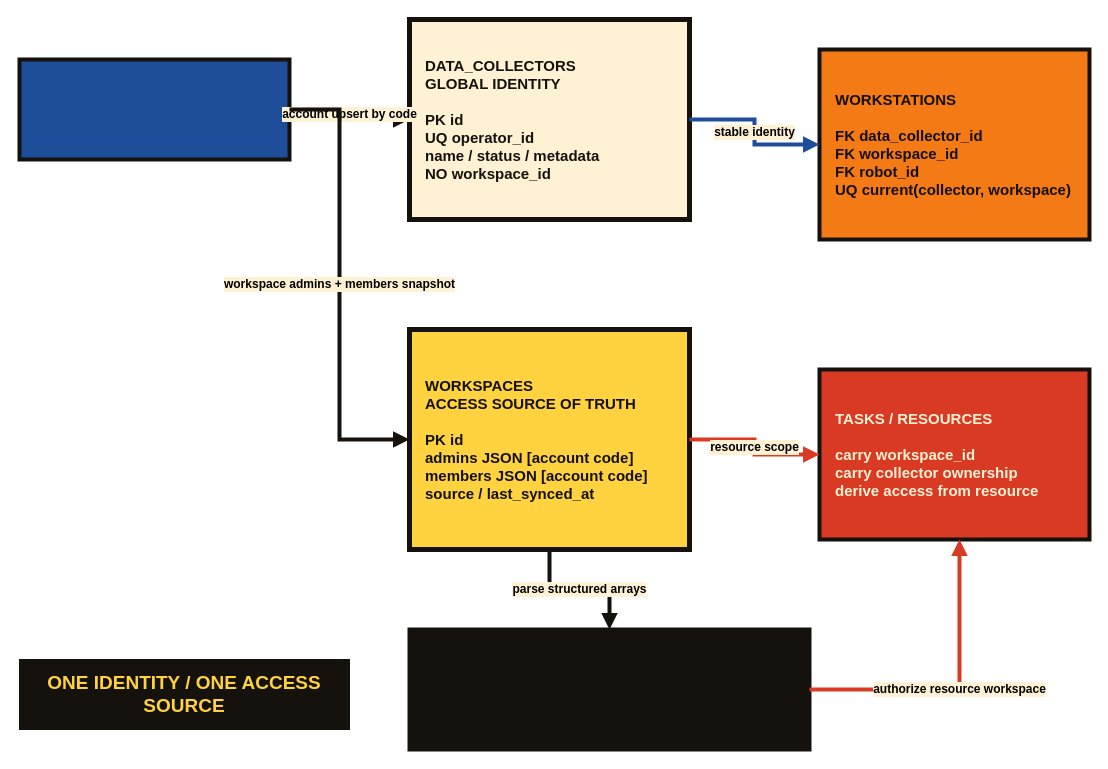
Image size: 1108x769. Some labels were removed from this diagram. The shapes that lost their labels are listed below. From the top down, each one's box as (x1, y1, x2, y2) in pixels, then its label:
(17, 57, 291, 161): HILBERT global account + workspace snapshot
(407, 627, 811, 751): ACCESS CHECK operator_id in workspace.admins OR operator_id in workspace.members
